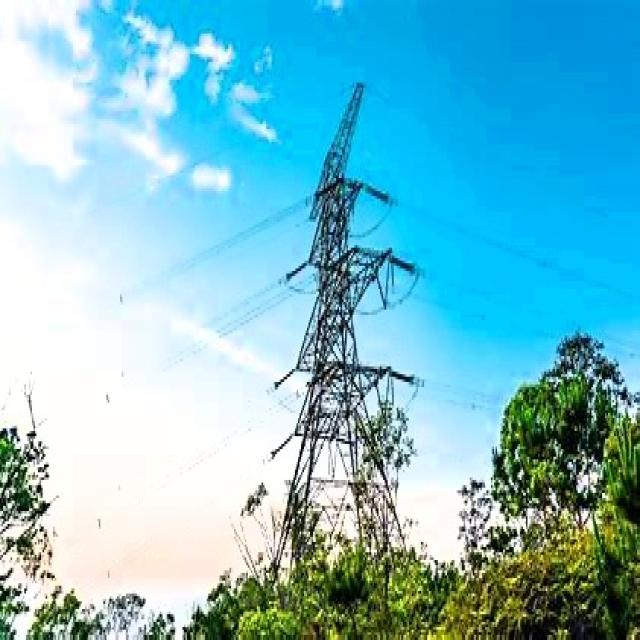utility poles: (472, 280, 620, 504), (341, 360, 434, 531)
